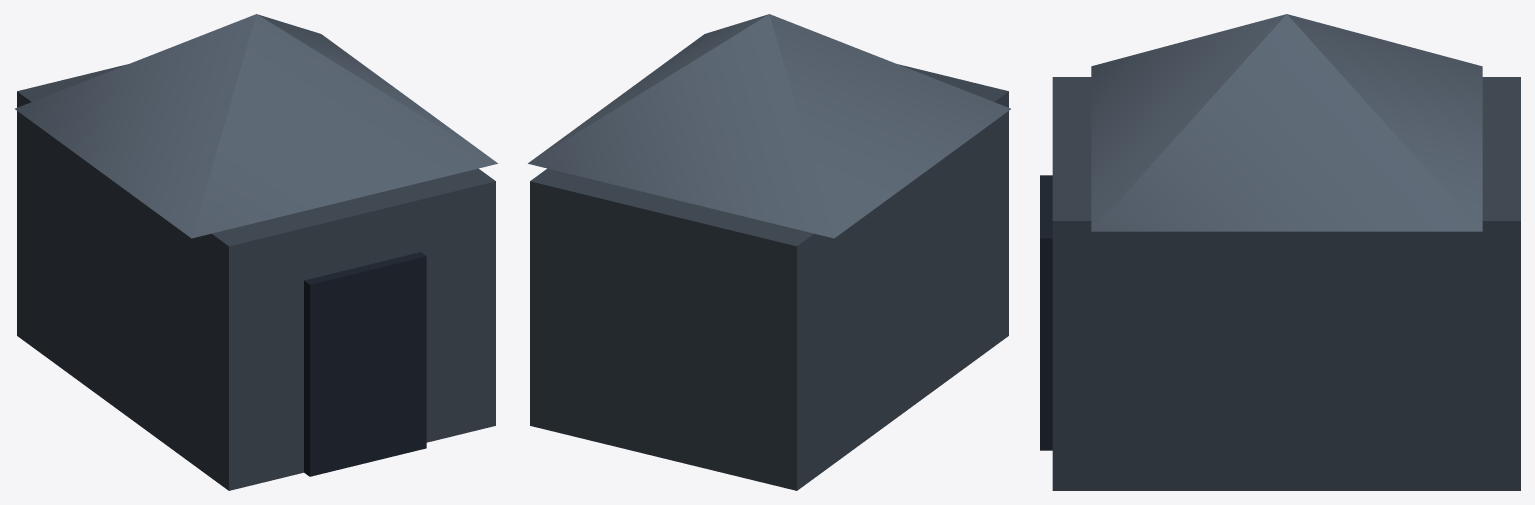
The model's file is crypt_small.glb.
3 renders of one model, left to right at view 1: azimuth 30°, elevation 25°; view 2: azimuth 150°, elevation 25°; view 3: azimuth 270°, elevation 25°, orthographic. The views are drawn at different scales.
Size of the model in its own units: 1.84 by 2.1 by 2.26.
